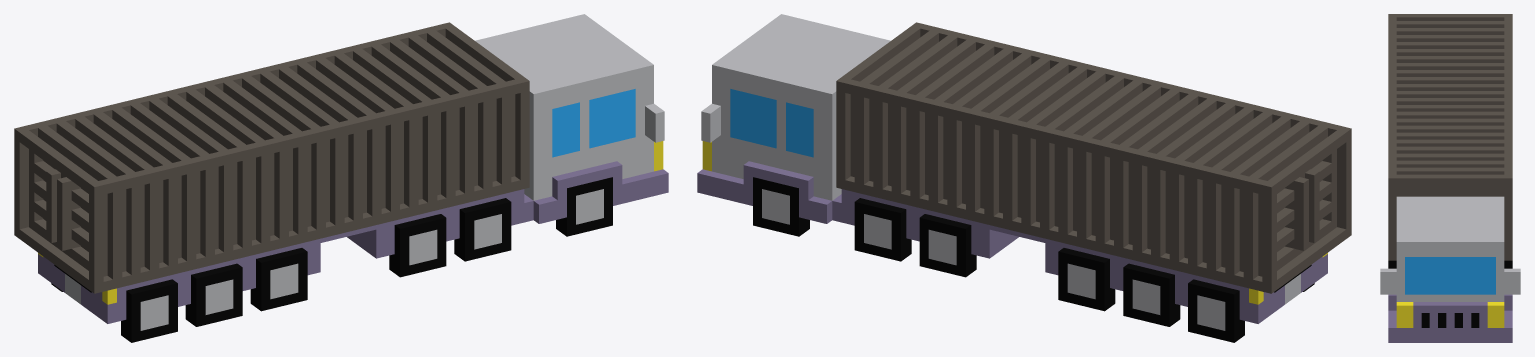
The model's file is cargo_truck_d.obj.
The picture shows the model from 3 angles, left to right: view 1: azimuth 30°, elevation 25°; view 2: azimuth 150°, elevation 25°; view 3: azimuth 270°, elevation 25°; orthographic projection. The views are drawn at different scales.
Size of the model in its own units: 6.2 by 1.7 by 1.7.
1 material, 1 textured.
